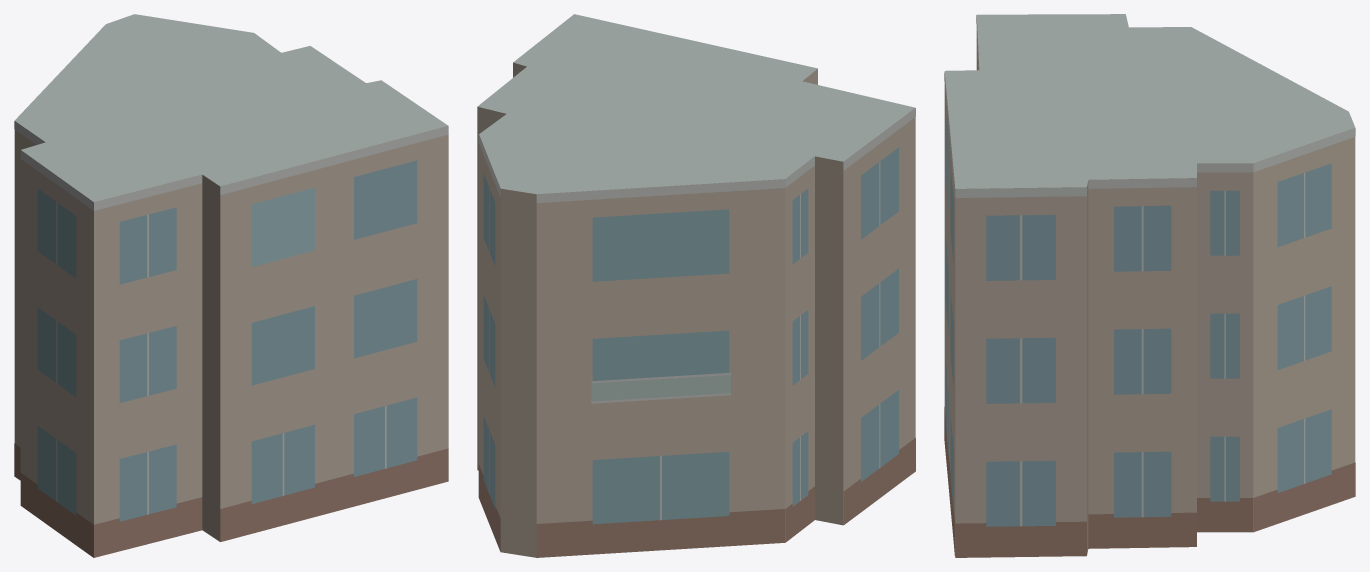
File: survey-upis-32486910.glb
The picture shows the model from 3 angles, left to right: view 1: azimuth 30°, elevation 25°; view 2: azimuth 150°, elevation 25°; view 3: azimuth 270°, elevation 25°; orthographic projection. The views are drawn at different scales.
Visible parts, largest first — view 1: survey-upis-32486910.tmp; view 2: survey-upis-32486910.tmp; view 3: survey-upis-32486910.tmp.
Boxes of the visible parts, bbox=[...] form: survey-upis-32486910.tmp: bbox=[14, 14, 448, 557]; survey-upis-32486910.tmp: bbox=[477, 14, 915, 557]; survey-upis-32486910.tmp: bbox=[944, 14, 1355, 557].
Size of the model in its own units: 10.08 by 9.9 by 10.
